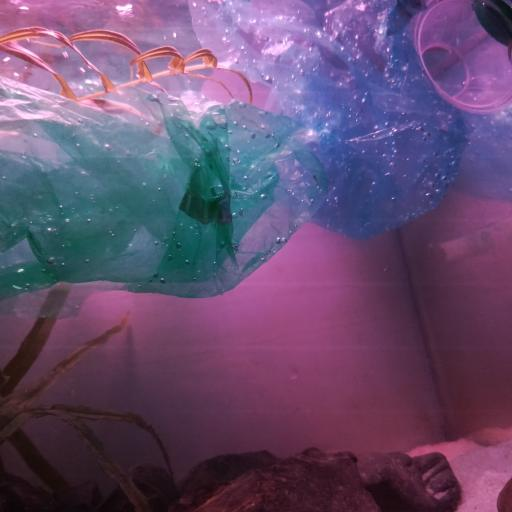bottle_cap: (471, 0, 512, 45)
plastic_bag: (0, 78, 341, 318), (189, 0, 512, 243)
plastic_cup: (416, 3, 512, 112)
